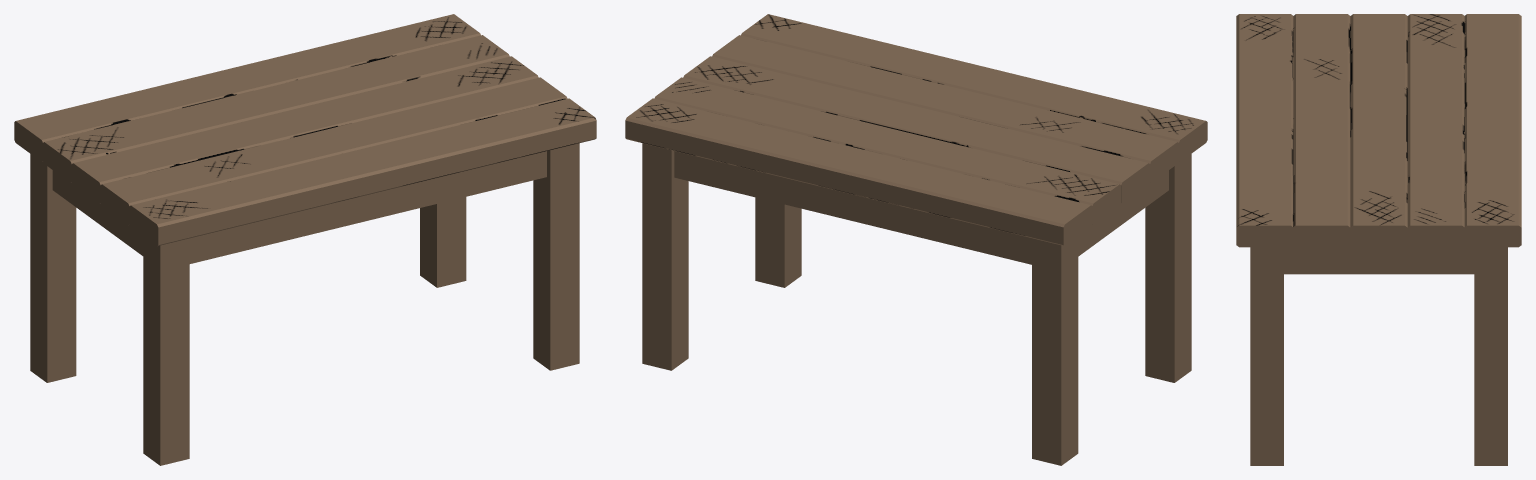
3 renders of one model, left to right at view 1: azimuth 30°, elevation 25°; view 2: azimuth 150°, elevation 25°; view 3: azimuth 270°, elevation 25°, orthographic.
Visible parts, largest first — view 1: 立方体.006; view 2: 立方体.006; view 3: 立方体.006.
Boxes of the visible parts, left/top/right/bottom form: 立方体.006: left=14, top=14, right=596, bottom=465; 立方体.006: left=625, top=14, right=1207, bottom=465; 立方体.006: left=1236, top=14, right=1521, bottom=465.
Size of the model in its own units: 780 by 422 by 444.
Materials: 1 (1 with a texture image).
